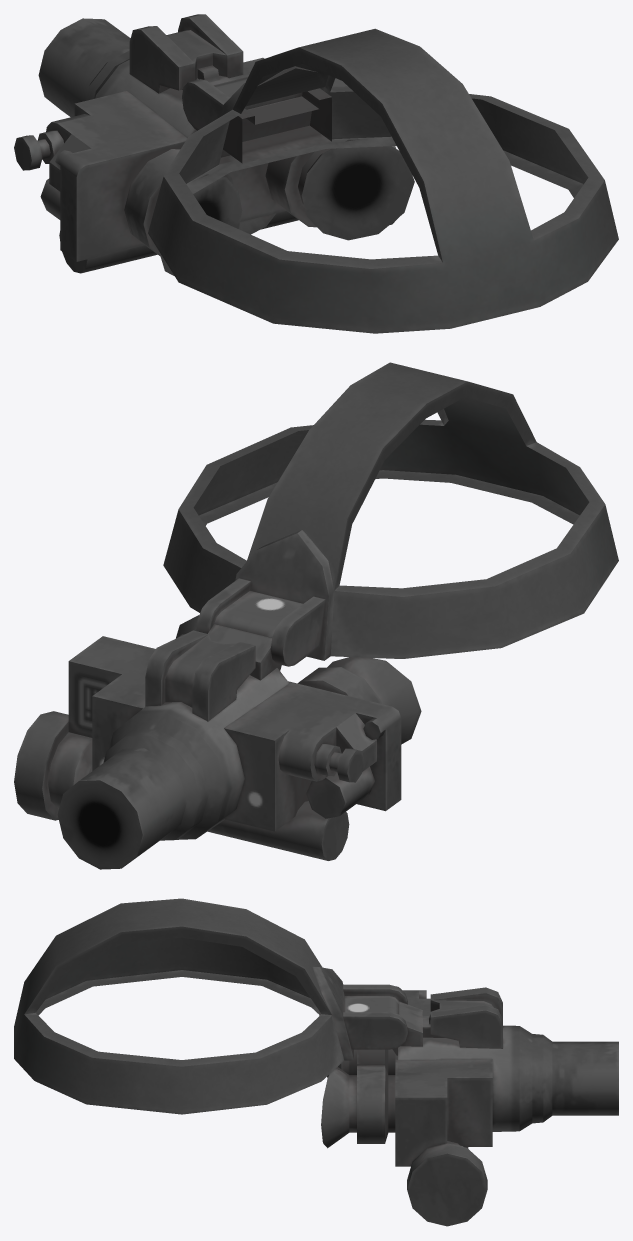
The model's file is IG_FackMask_Thermal.fbx.
3 views of the same model, one above another, from view 1: azimuth 30°, elevation 25°; view 2: azimuth 150°, elevation 25°; view 3: azimuth 270°, elevation 25° (orthographic). The views are drawn at different scales.
Visible parts, largest first — view 1: ThermalGoggles_LV3; view 2: ThermalGoggles_LV3; view 3: ThermalGoggles_LV3.
Part boxes in pixels (<box>): ThermalGoggles_LV3: <box>14,14,618,333</box>; ThermalGoggles_LV3: <box>14,362,618,869</box>; ThermalGoggles_LV3: <box>14,898,618,1226</box>.
Bounding box in the file's own units: 0.5891 × 0.4751 × 1.04.
